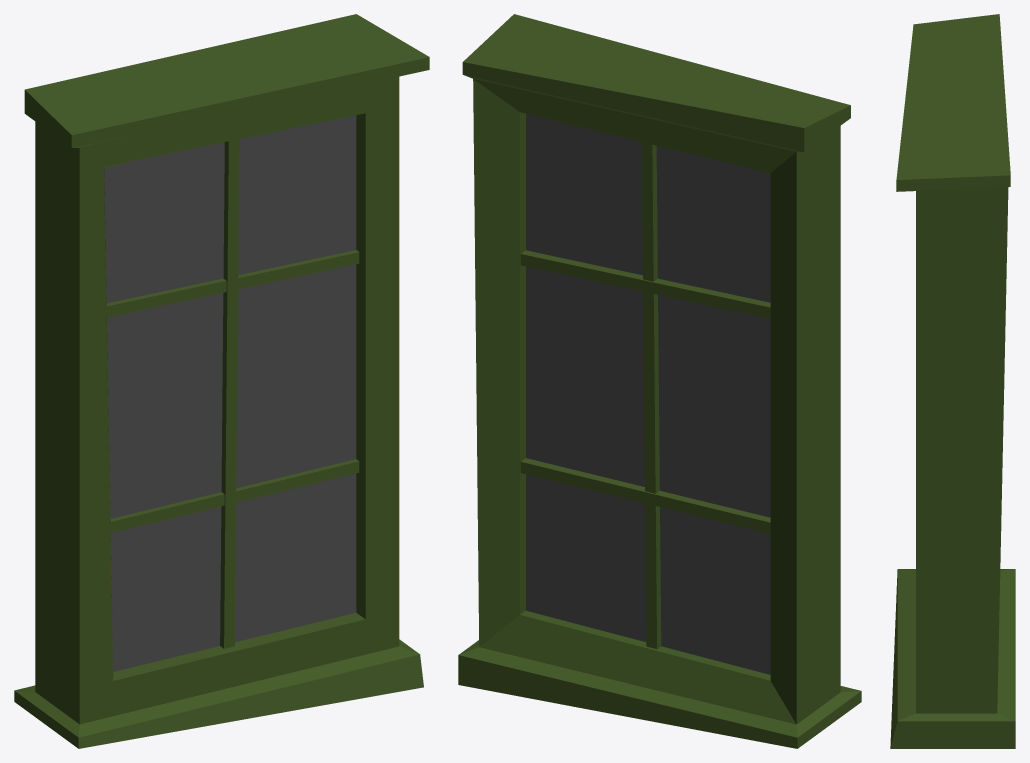
File: window.fbx
3 views of the same model, side by side, from view 1: azimuth 30°, elevation 25°; view 2: azimuth 150°, elevation 25°; view 3: azimuth 270°, elevation 25° (orthographic). The views are drawn at different scales.
Parts seen in each view (by area): view 1: Window; view 2: Window; view 3: Window.
Part boxes in pixels (left/top/right/bottom): Window: left=14, top=14, right=429, bottom=748; Window: left=458, top=14, right=861, bottom=748; Window: left=890, top=14, right=1015, bottom=748.
Size of the model in its own units: 121 by 40.92 by 210.
